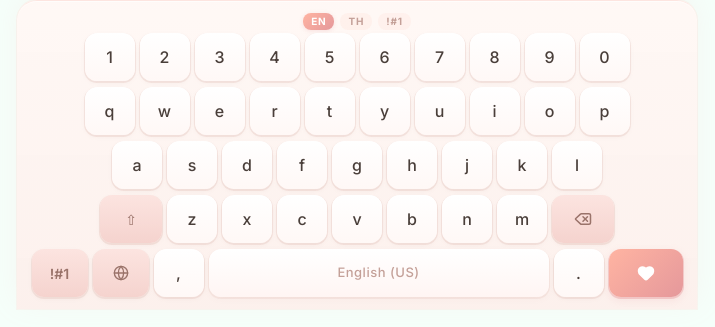
Test: VirtualKeyboard › Thai Layout › switches to Thai when Globe is pressed
Click the button named "Switch language" at point(120, 273), box [92,249,148,297]
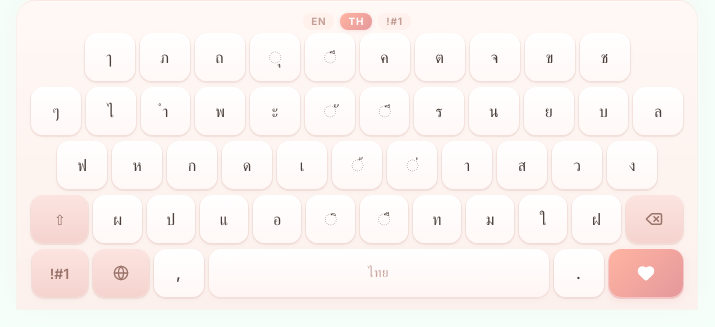
Expected: the button "ก" is shown, [167,141,217,189]
Expected: the button "ฟ" is shown, [57,141,107,189]
